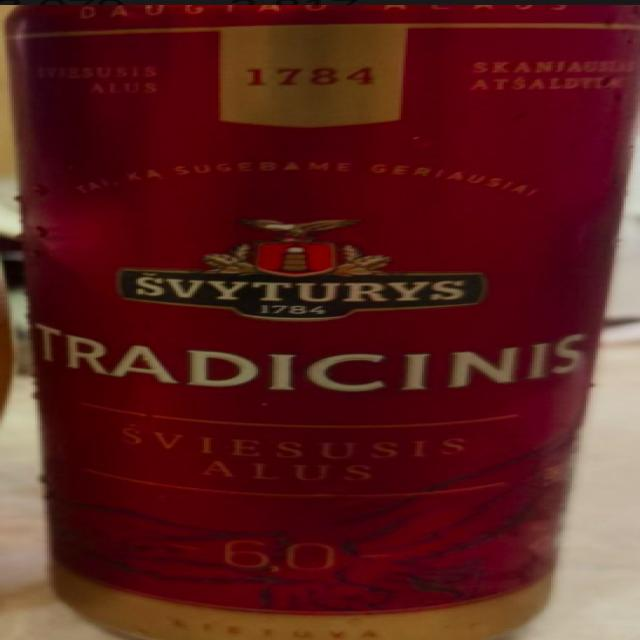Svyturys Tradicinis: (2, 0, 640, 640)
